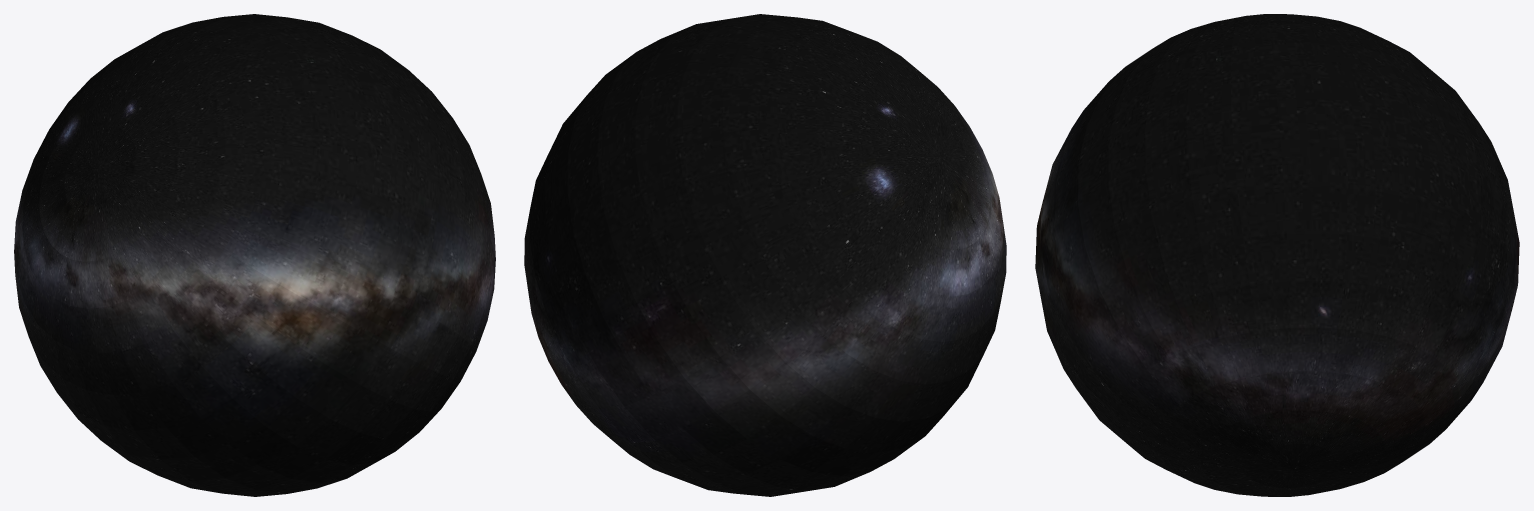
File: skyboxFinal.obj
3 views of the same model, side by side, from view 1: azimuth 30°, elevation 25°; view 2: azimuth 150°, elevation 25°; view 3: azimuth 270°, elevation 25° (orthographic).
Parts seen in each view (by area): view 1: Sphere_Sphere.002; view 2: Sphere_Sphere.002; view 3: Sphere_Sphere.002.
Part boxes in pixels (x1=…): Sphere_Sphere.002: x1=14, y1=14, x2=495, y2=496; Sphere_Sphere.002: x1=524, y1=14, x2=1006, y2=496; Sphere_Sphere.002: x1=1035, y1=14, x2=1519, y2=496.
Size of the model in its own units: 239 by 239 by 239.
Materials: 1 (1 with a texture image).
